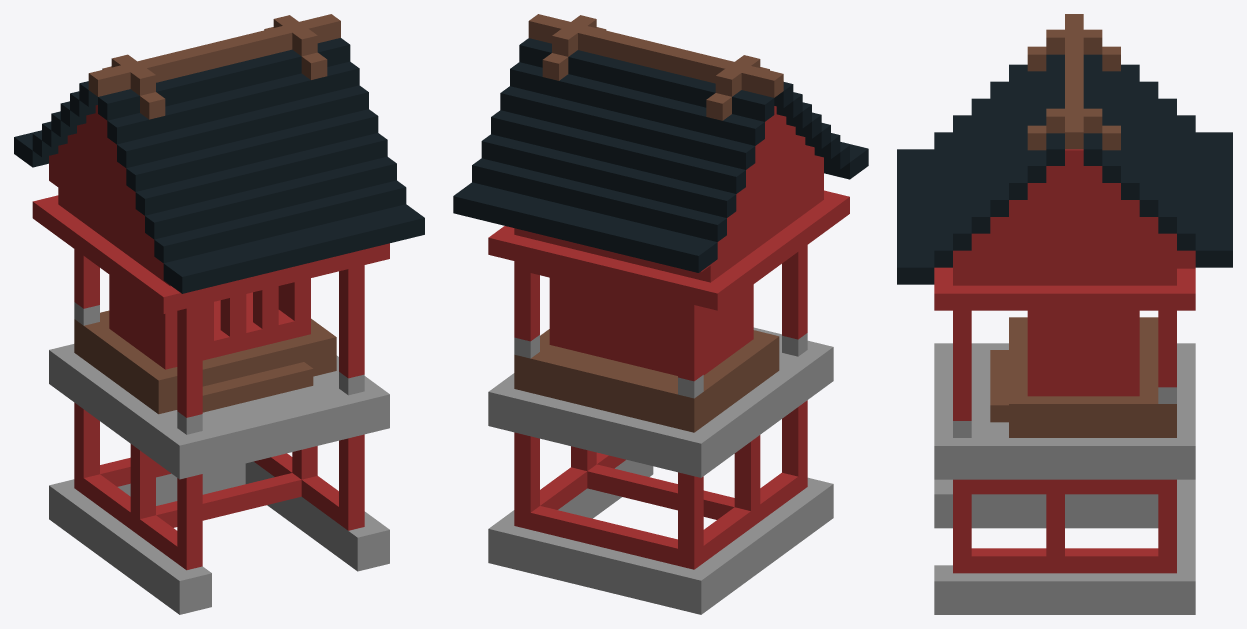
Rendered from mapkari-13.obj.
3 renders of one model, left to right at view 1: azimuth 30°, elevation 25°; view 2: azimuth 150°, elevation 25°; view 3: azimuth 270°, elevation 25°, orthographic.
Visible parts, largest first — view 1: mapkari-13; view 2: mapkari-13; view 3: mapkari-13.
Boxes of the visible parts, x1=… form: mapkari-13: x1=14, y1=14, x2=424, y2=614; mapkari-13: x1=453, y1=14, x2=868, y2=614; mapkari-13: x1=897, y1=14, x2=1232, y2=614.
Size of the model in its own units: 15 by 29 by 18.
Materials: 1 (1 with a texture image).
